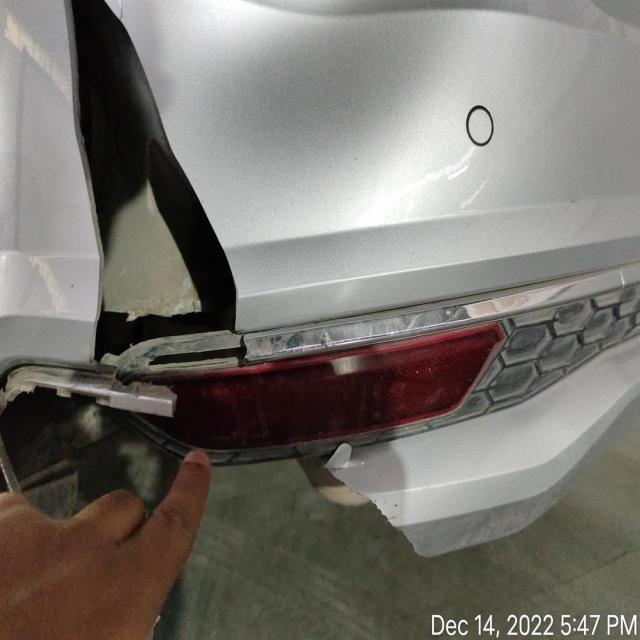damage: (34, 0, 273, 332), (93, 303, 277, 426), (303, 441, 439, 555)
